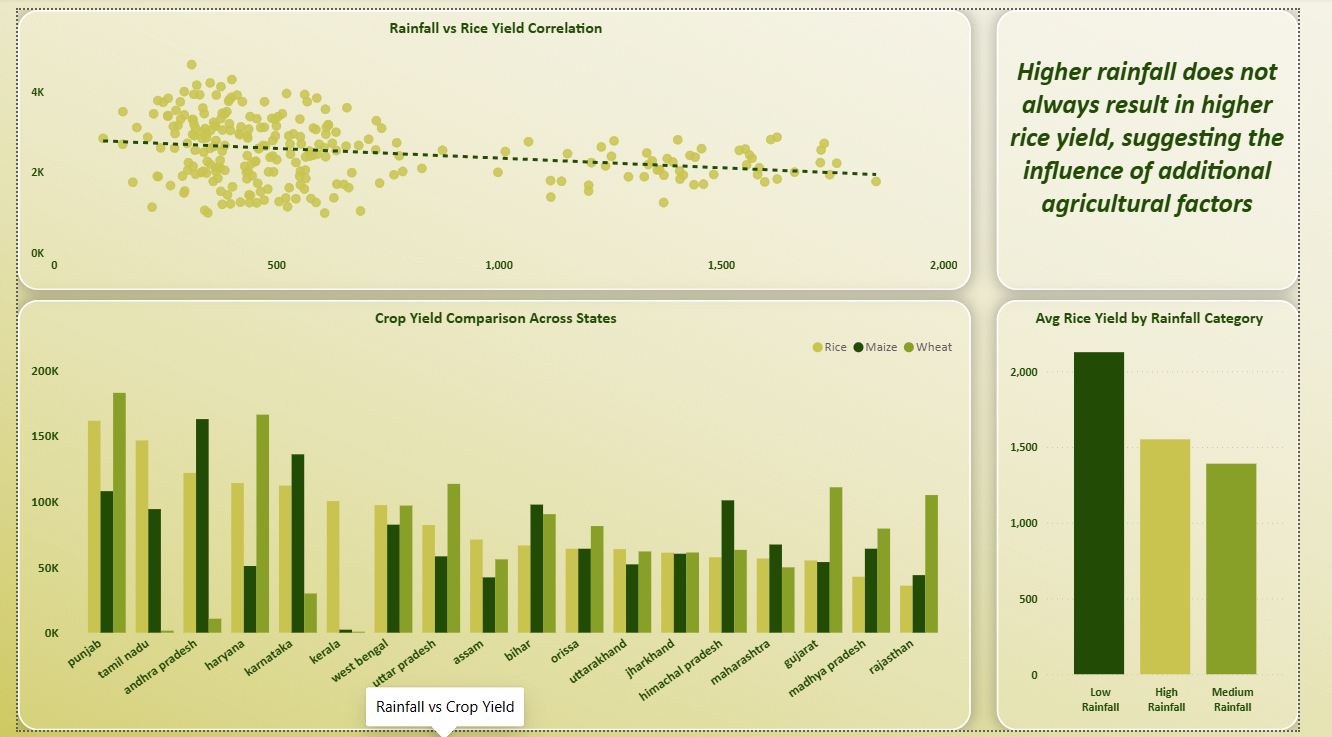

The page's visual inventory and layout, read from the dashboard file:
{"tool":"powerbi","page":{"name":"Rainfall vs Crop Yield","canvas":[1280,720],"ordinal":2},"visuals":[{"type":"scatterChart","title":"Rainfall vs Rice Yield Correlation","fields":{"X":["rain-agriculture.Total_Rainfall"],"Y":["rain-agriculture.RICE YIELD (Kg per ha)"]},"box":[0,0,952.5,280],"z":0},{"type":"textbox","box":[978.8,0,301.2,280],"z":1000},{"type":"clusteredColumnChart","title":"Crop Yield Comparison Across States","fields":{"Category":["rain-agriculture.State Name"],"Y":["Sum(rain-agriculture.RICE YIELD (Kg per ha))","Sum(rain-agriculture.MAIZE YIELD (Kg per ha))","Sum(rain-agriculture.WHEAT YIELD (Kg per ha))"]},"box":[0,289.8,952.6,430.4],"z":2000},{"type":"clusteredColumnChart","fields":{"Y":["All_Measure.Avg Rice Yield"],"Category":["rain-agriculture.Rainfall Category"]},"box":[978.3,289.8,302,430.4],"z":3000}]}

Visuals, with their boxes in screenshot pixels (x1, y1, x2, y2), scaled from the page's 1280x720 canvas onto the 1332x737 screenshot:
"Rainfall vs Rice Yield Correlation" scatterChart: 0/0/991/287
textbox: 1019/0/1331/287
"Crop Yield Comparison Across States" clusteredColumnChart: 0/297/991/736
clusteredColumnChart - All_Measure.Avg Rice Yield x rain-agriculture.Rainfall Category: 1018/297/1331/736
